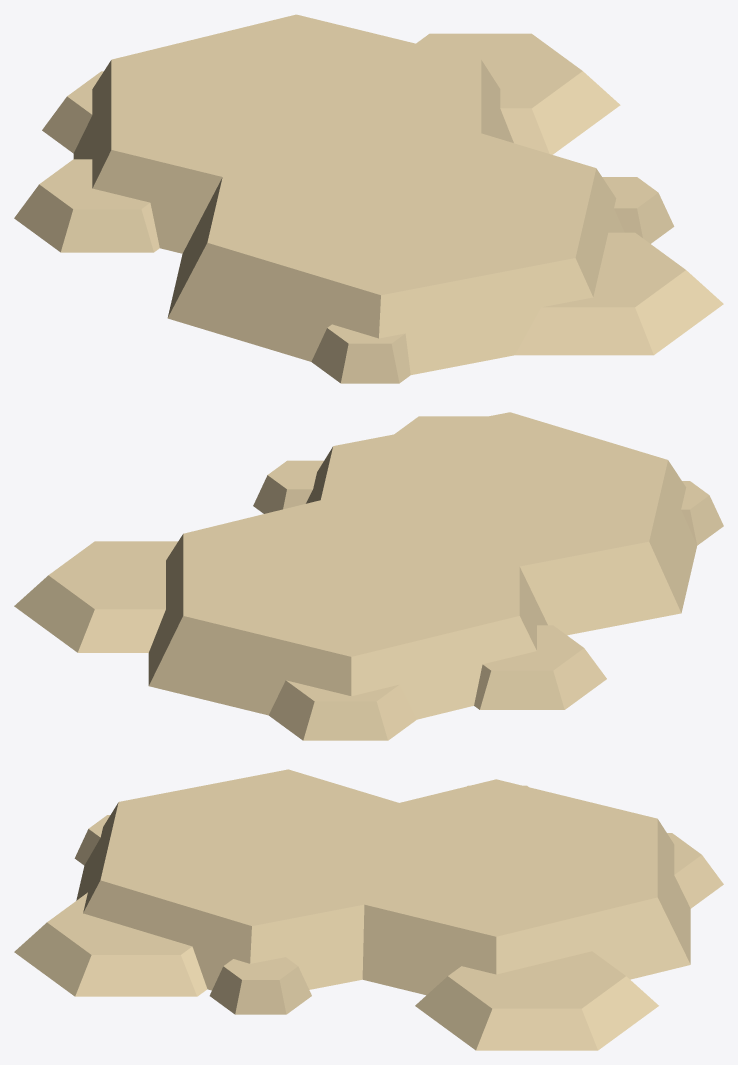
The model's file is rockFlat.dae.
3 renders of one model, top to bottom at view 1: azimuth 30°, elevation 25°; view 2: azimuth 150°, elevation 25°; view 3: azimuth 270°, elevation 25°, orthographic. The views are drawn at different scales.
Visible parts, largest first — view 1: rockFlat; view 2: rockFlat; view 3: rockFlat.
Boxes of the visible parts, x1=… form: rockFlat: x1=14, y1=14, x2=723, y2=383; rockFlat: x1=14, y1=412, x2=723, y2=740; rockFlat: x1=14, y1=769, x2=723, y2=1050.
Size of the model in its own units: 5.79 by 0.66 by 7.15.
